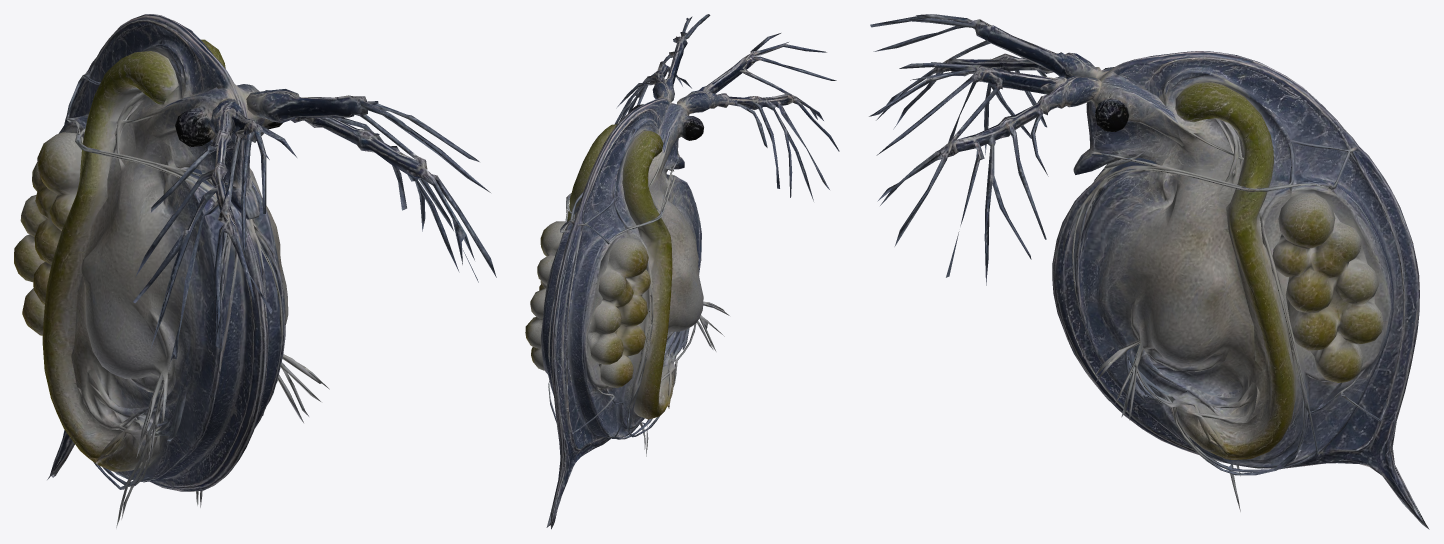
Rendered from daphnia.glb.
The picture shows the model from 3 angles, left to right: view 1: azimuth 30°, elevation 25°; view 2: azimuth 150°, elevation 25°; view 3: azimuth 270°, elevation 25°; orthographic projection. The views are drawn at different scales.
Visible parts, largest first — view 1: tripo_part_0, tripo_part_2, tripo_part_1, tripo_part_7, tripo_part_5, tripo_part_3, tripo_part_4; view 2: tripo_part_0, tripo_part_2, tripo_part_5, tripo_part_7, tripo_part_6, tripo_part_1, tripo_part_3, tripo_part_8; view 3: tripo_part_0, tripo_part_8, tripo_part_6, tripo_part_1, tripo_part_4, tripo_part_7.
Part boxes in pixels (x1,y1,x2,y2): tripo_part_0: (47, 14, 329, 528); tripo_part_2: (42, 51, 178, 471); tripo_part_1: (246, 89, 496, 277); tripo_part_7: (133, 98, 296, 362); tripo_part_5: (14, 132, 83, 335); tripo_part_3: (151, 87, 259, 219); tripo_part_4: (235, 84, 282, 213); tripo_part_0: (540, 98, 729, 529); tripo_part_2: (622, 131, 675, 419); tripo_part_5: (587, 237, 650, 387); tripo_part_7: (677, 33, 839, 201); tripo_part_6: (525, 221, 568, 370); tripo_part_1: (614, 14, 710, 124); tripo_part_3: (658, 101, 703, 178); tripo_part_8: (567, 124, 616, 221); tripo_part_0: (1052, 51, 1429, 529); tripo_part_8: (1175, 82, 1295, 459); tripo_part_6: (1272, 193, 1383, 382); tripo_part_1: (869, 62, 1101, 285); tripo_part_4: (1073, 72, 1190, 174); tripo_part_7: (870, 14, 1099, 154).
Bounding box in the file's own units: 0.5429 × 0.9354 × 0.9717.
Materials: 12 (12 with a texture image).
